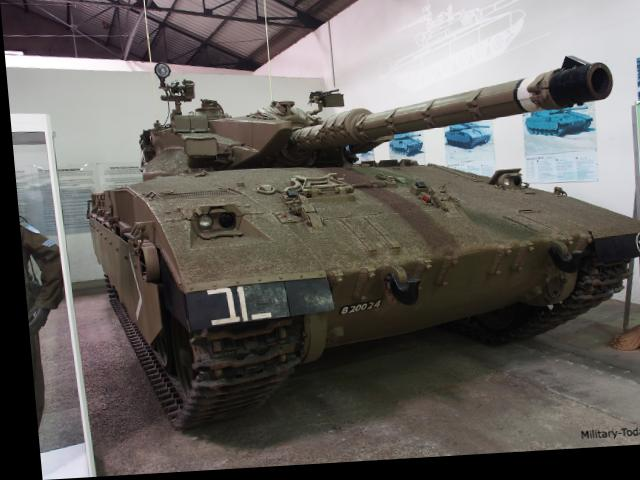tank: (78, 90, 628, 365)
